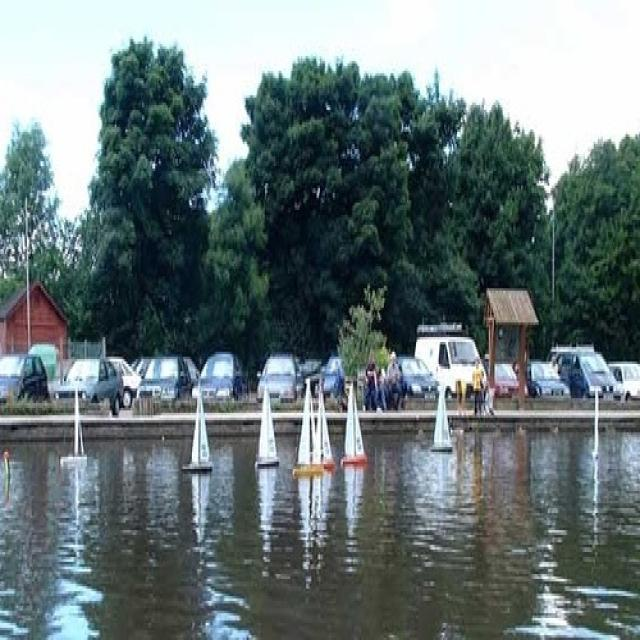boat: (294, 374, 322, 491), (185, 379, 218, 469), (60, 384, 91, 476), (341, 374, 368, 469), (253, 374, 280, 469), (312, 383, 338, 474), (430, 376, 453, 459)
car: (413, 317, 488, 413), (548, 337, 618, 408), (55, 342, 118, 418), (191, 340, 247, 410), (140, 342, 186, 425), (254, 339, 300, 413), (1, 350, 50, 410), (384, 340, 431, 400), (526, 354, 567, 408), (489, 350, 522, 406), (612, 354, 639, 410)
